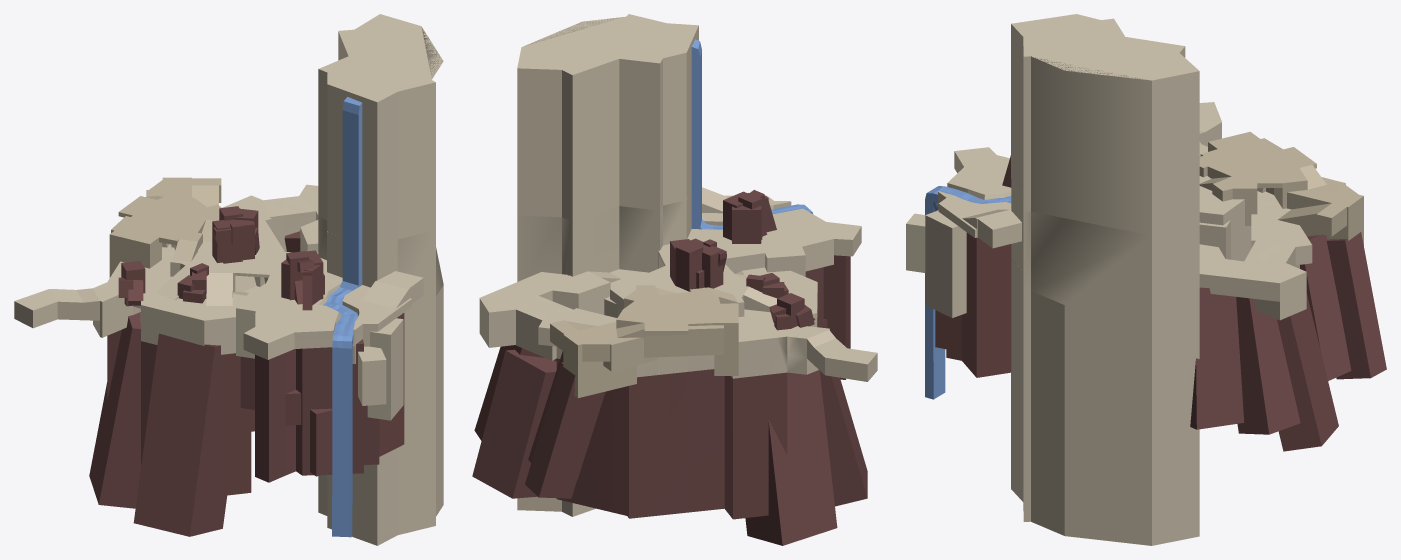
File: Peak_SnakePass.fbx
3 renders of one model, left to right at view 1: azimuth 30°, elevation 25°; view 2: azimuth 150°, elevation 25°; view 3: azimuth 270°, elevation 25°, orthographic. The views are drawn at different scales.
Parts seen in each view (by area): view 1: Bulk.001, Floor_UnderpassFar, Floor_Main, SnakeWaterfall_actual, Floor_UnderpassNear, Rubble_BoulderA, Rubble_BoulderB, Rubble_Generic1, Rubble_BoulderC; view 2: Bulk.001, Floor_UnderpassFar, Floor_Main, Floor_UnderpassNear, Rubble_BoulderA, SnakeWaterfall_actual, Rubble_BoulderB, Rubble_Generic1, Rubble_BoulderC; view 3: Bulk.001, Floor_UnderpassFar, Floor_UnderpassNear, Floor_Main, SnakeWaterfall_actual.
Part boxes in pixels (box(x1,y1,x2,y2)): Bulk.001: box(89, 14, 443, 545); Floor_UnderpassFar: box(156, 217, 423, 420); Floor_Main: box(14, 184, 318, 354); SnakeWaterfall_actual: box(323, 97, 362, 537); Floor_UnderpassNear: box(109, 177, 221, 277); Rubble_BoulderA: box(212, 206, 259, 263); Rubble_BoulderB: box(281, 250, 324, 310); Rubble_Generic1: box(118, 261, 145, 306); Rubble_BoulderC: box(177, 263, 208, 303); Bulk.001: box(472, 14, 867, 545); Floor_UnderpassFar: box(562, 187, 861, 317); Floor_Main: box(479, 267, 877, 381); Floor_UnderpassNear: box(550, 285, 738, 398); Rubble_BoulderA: box(670, 238, 726, 291); SnakeWaterfall_actual: box(691, 39, 812, 229); Rubble_BoulderB: box(723, 190, 776, 243); Rubble_Generic1: box(769, 293, 815, 330); Rubble_BoulderC: box(746, 273, 788, 298); Bulk.001: box(935, 14, 1386, 545); Floor_UnderpassFar: box(906, 147, 1251, 318); Floor_UnderpassNear: box(1199, 131, 1363, 245); Floor_Main: box(1199, 102, 1312, 320); SnakeWaterfall_actual: box(925, 186, 1011, 399).
Bounding box in the file's own units: 4452 × 4683 × 5000.
